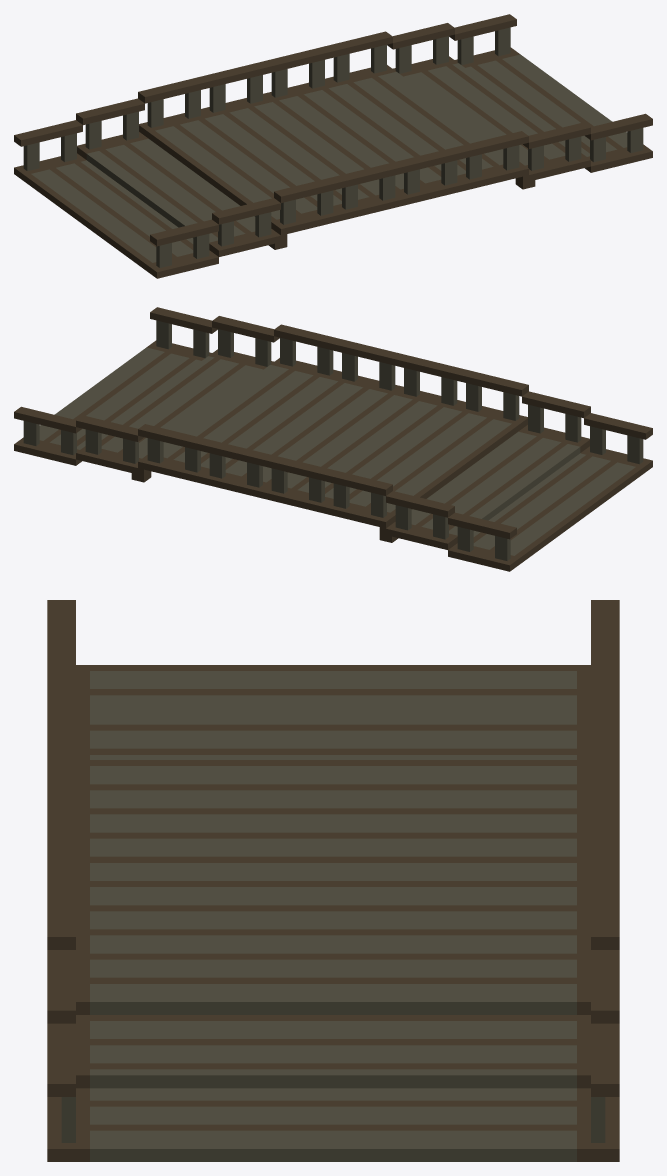
Rendered from wooden_bridge_overtile.obj.
The picture shows the model from 3 angles, top to bottom: view 1: azimuth 30°, elevation 25°; view 2: azimuth 150°, elevation 25°; view 3: azimuth 270°, elevation 25°; orthographic projection. The views are drawn at different scales.
Bounding box in the file's own units: 8 × 0.8 × 4.
Materials: 1 (1 with a texture image).
